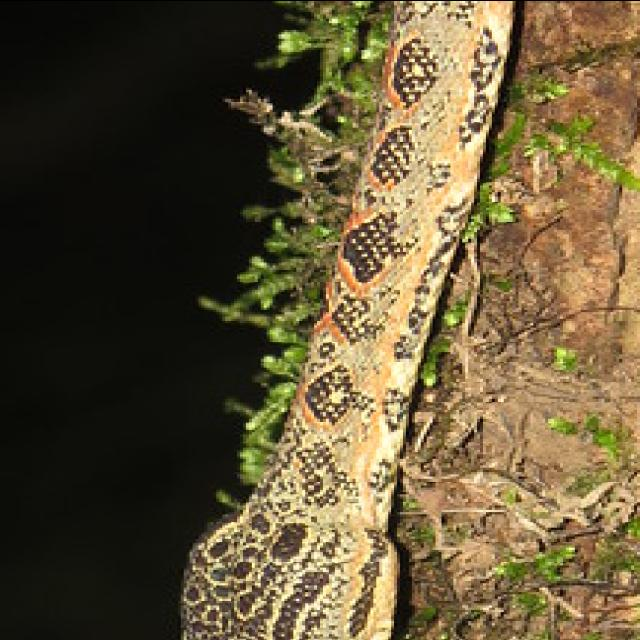Snake: (162, 0, 524, 640)
